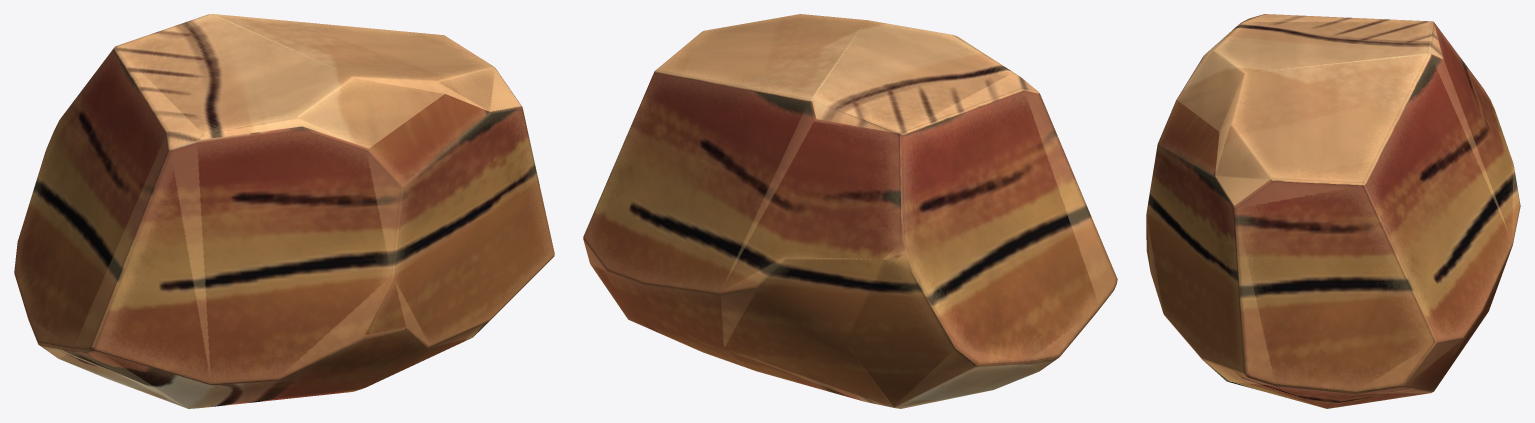
Rendered from rock_01.glb.
3 views of the same model, side by side, from view 1: azimuth 30°, elevation 25°; view 2: azimuth 150°, elevation 25°; view 3: azimuth 270°, elevation 25° (orthographic). The views are drawn at different scales.
Visible parts, largest first — view 1: rock_01; view 2: rock_01; view 3: rock_01.
Boxes of the visible parts, <box> form: rock_01: <box>14,14,554,408</box>; rock_01: <box>583,14,1117,408</box>; rock_01: <box>1146,14,1520,408</box>.
Size of the model in its own units: 0.3591 by 0.22 by 0.2696.
Materials: 1 (1 with a texture image).
